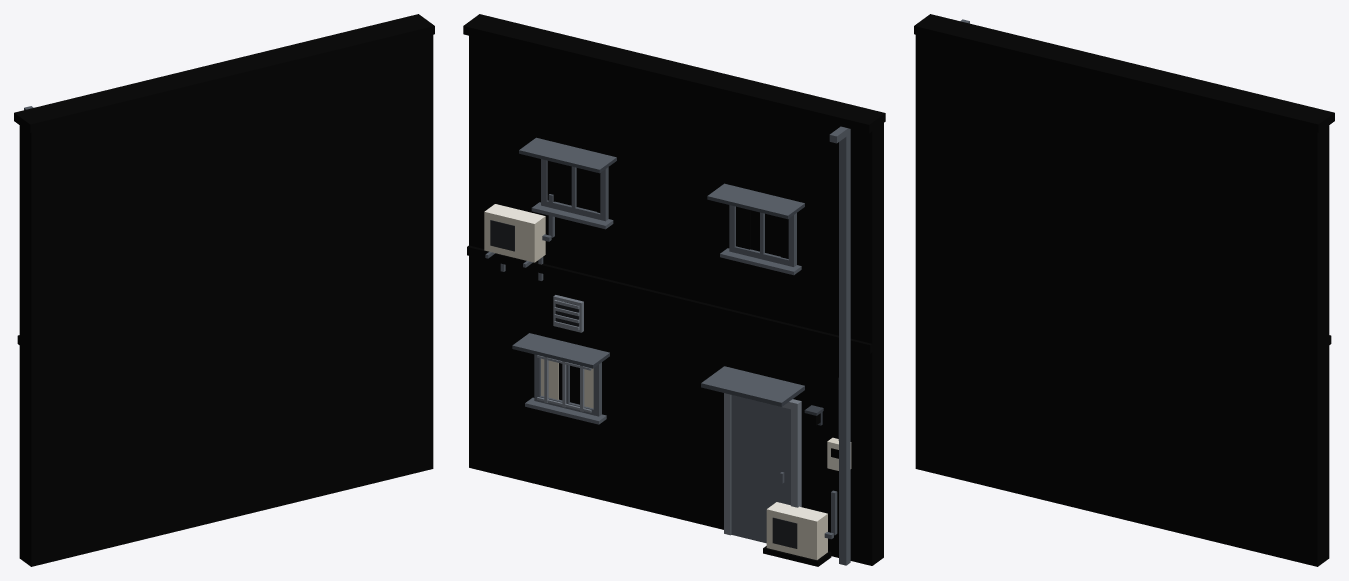
The model's file is BackFacade_B.fbx.
The picture shows the model from 3 angles, left to right: view 1: azimuth 30°, elevation 25°; view 2: azimuth 150°, elevation 25°; view 3: azimuth 330°, elevation 25°; orthographic projection.
Parts seen in each view (by area): view 1: Body.009, Coping.001; view 2: Body.009, Coping.001, BackDoor.001, Pipes.013, WinFrame.013, Hoods.010, AirCon.007, Band.001, Glass.013, DoorFrame.001, DoorHood.001, AirConFan.007 (+4 smaller); view 3: Body.009, Coping.001.
Boxes of the visible parts, bbox=[...] form: Body.009: bbox=[19, 35, 433, 566]; Coping.001: bbox=[14, 14, 434, 132]; Body.009: bbox=[469, 36, 883, 565]; Coping.001: bbox=[463, 14, 885, 133]; BackDoor.001: bbox=[731, 395, 790, 543]; Pipes.013: bbox=[542, 126, 850, 565]; WinFrame.013: bbox=[525, 159, 801, 424]; Hoods.010: bbox=[512, 137, 804, 368]; AirCon.007: bbox=[484, 204, 827, 559]; Band.001: bbox=[467, 245, 872, 353]; Glass.013: bbox=[554, 162, 838, 458]; DoorFrame.001: bbox=[724, 393, 801, 535]; DoorHood.001: bbox=[701, 366, 804, 406]; AirConFan.007: bbox=[490, 220, 797, 548]; Body.009: bbox=[915, 35, 1329, 566]; Coping.001: bbox=[914, 14, 1334, 132].
Bounding box in the file's own units: 6.04 × 6.32 × 0.91.
